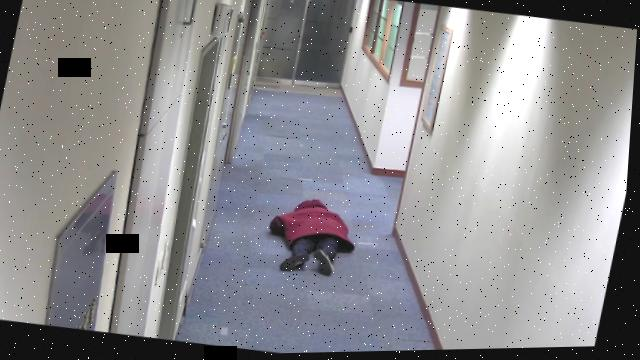fall: (263, 192, 365, 282)
